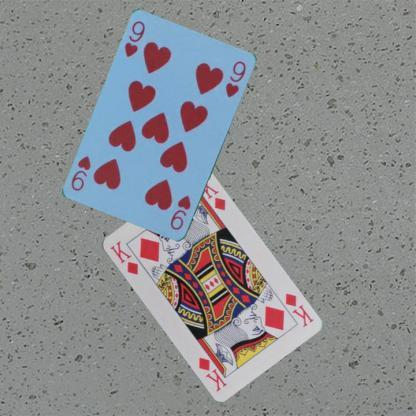9h: (122, 18, 147, 59), (168, 192, 192, 232)
Kd: (107, 238, 140, 276), (282, 290, 314, 328)
